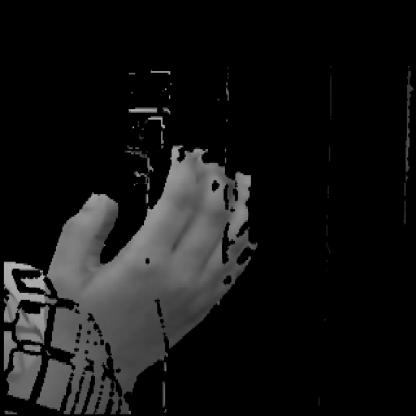dua: (38, 128, 268, 369)
